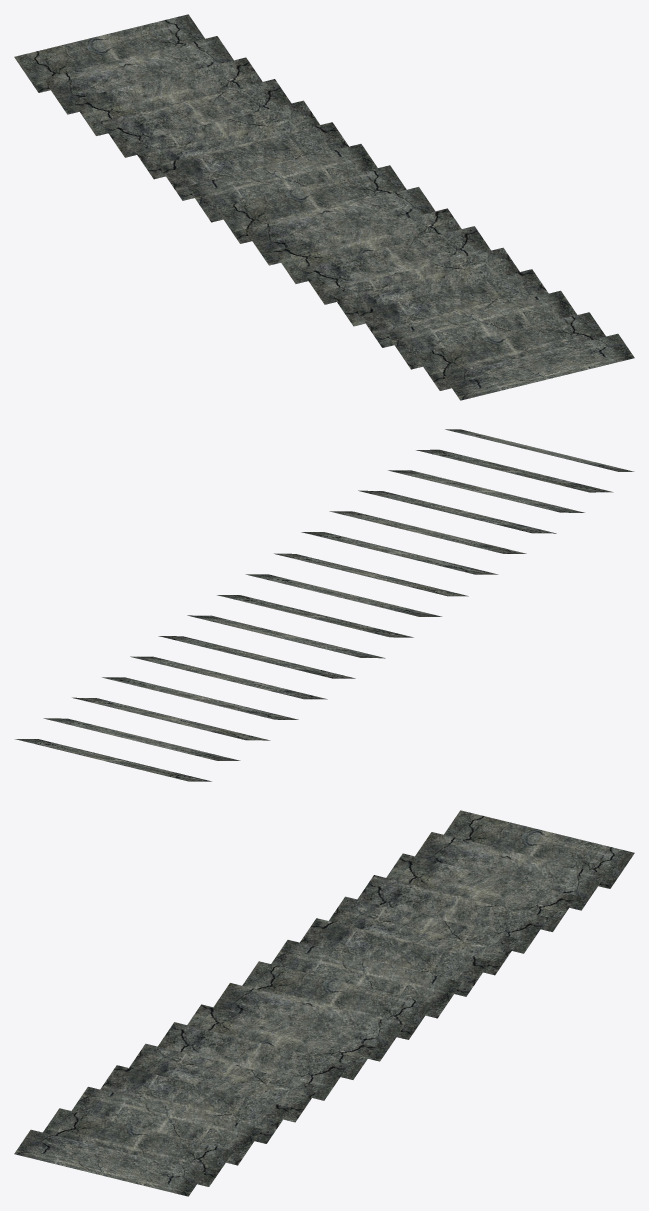
3 renders of one model, top to bottom at view 1: azimuth 30°, elevation 25°; view 2: azimuth 150°, elevation 25°; view 3: azimuth 330°, elevation 25°, orthographic.
Visible parts, largest first — view 1: Object12; view 2: Object12; view 3: Object12.
Part boxes in pixels (box(x1,y1,x2,y2)): Object12: box(14, 14, 634, 400); Object12: box(15, 429, 634, 781); Object12: box(14, 810, 634, 1196).
Size of the model in its own units: 45.36 by 5.6 by 201.
